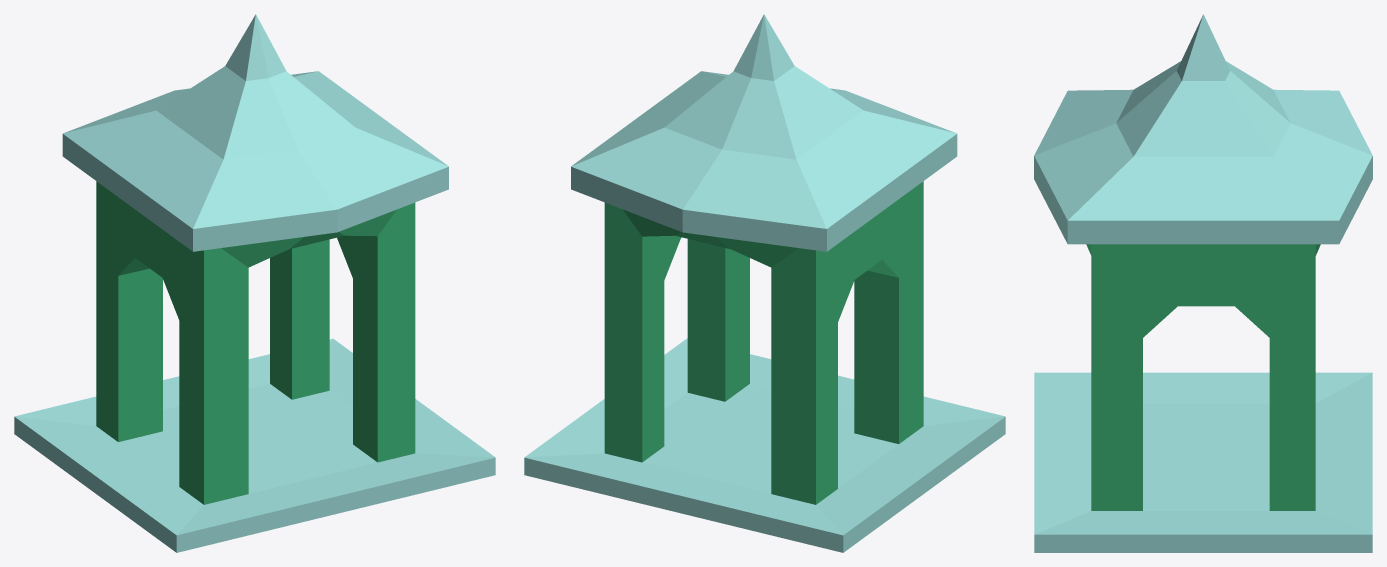
File: house13.fbx
3 views of the same model, side by side, from view 1: azimuth 30°, elevation 25°; view 2: azimuth 150°, elevation 25°; view 3: azimuth 270°, elevation 25° (orthographic). The views are drawn at different scales.
Parts seen in each view (by area): view 1: mid_build .009; view 2: mid_build .009; view 3: mid_build .009.
Part boxes in pixels (x1=…): mid_build .009: x1=14, y1=14, x2=495, y2=552; mid_build .009: x1=524, y1=14, x2=1005, y2=552; mid_build .009: x1=1034, y1=14, x2=1372, y2=552.
Size of the model in its own units: 2827 by 3729 by 2497.
